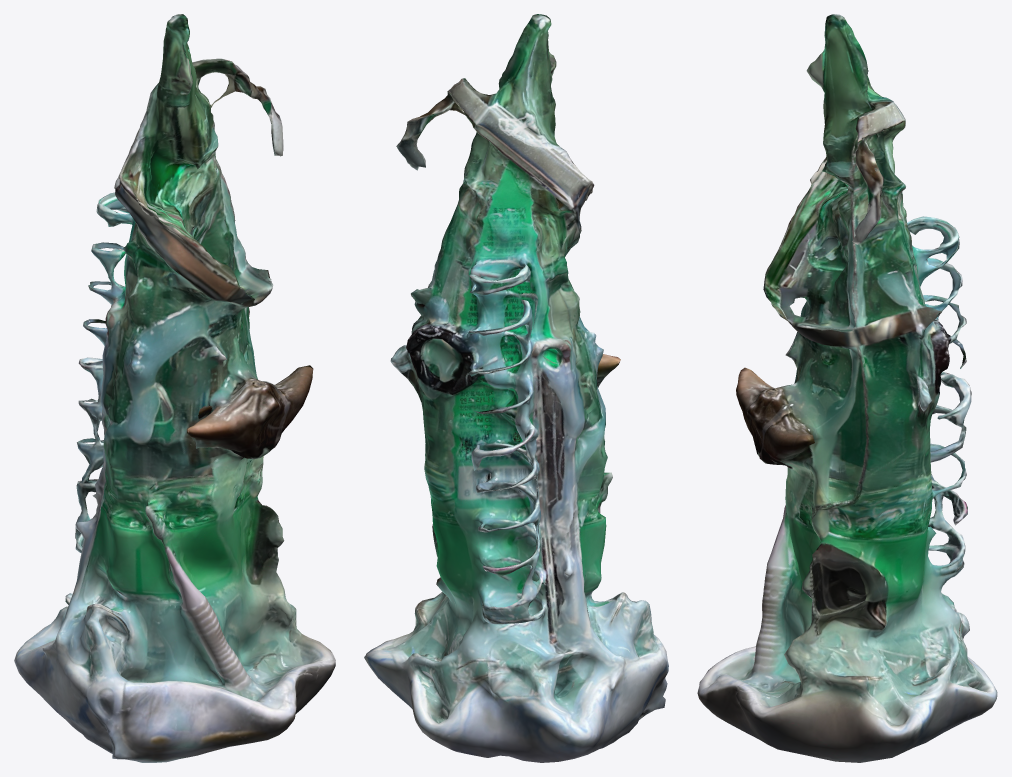
The picture shows the model from 3 angles, left to right: view 1: azimuth 30°, elevation 25°; view 2: azimuth 150°, elevation 25°; view 3: azimuth 270°, elevation 25°; orthographic projection.
Visible parts, largest first — view 1: P16; view 2: P16; view 3: P16.
Part boxes in pixels (box(x1,y1,x2,y2)): P16: box(14, 14, 335, 762); P16: box(364, 14, 668, 762); P16: box(697, 14, 997, 762).
Size of the model in its own units: 0.2707 by 0.7304 by 0.2799.
1 material, 1 textured.
